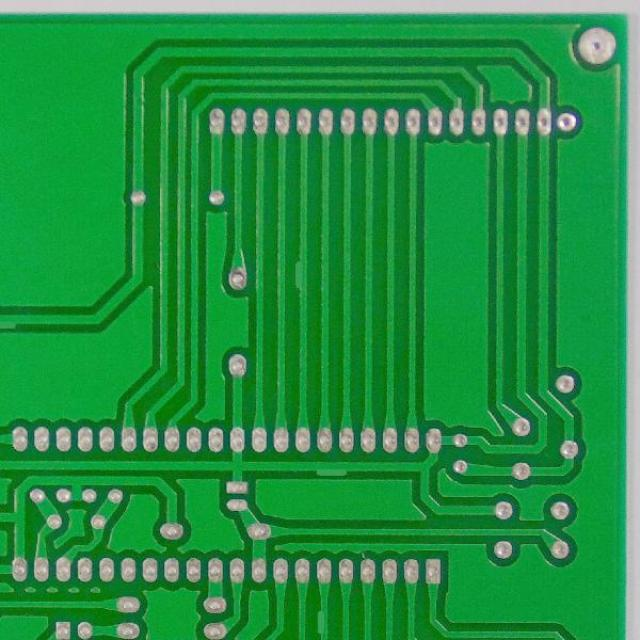Spur: (309, 457, 352, 480), (289, 253, 312, 296), (312, 605, 331, 639), (0, 309, 22, 332)
